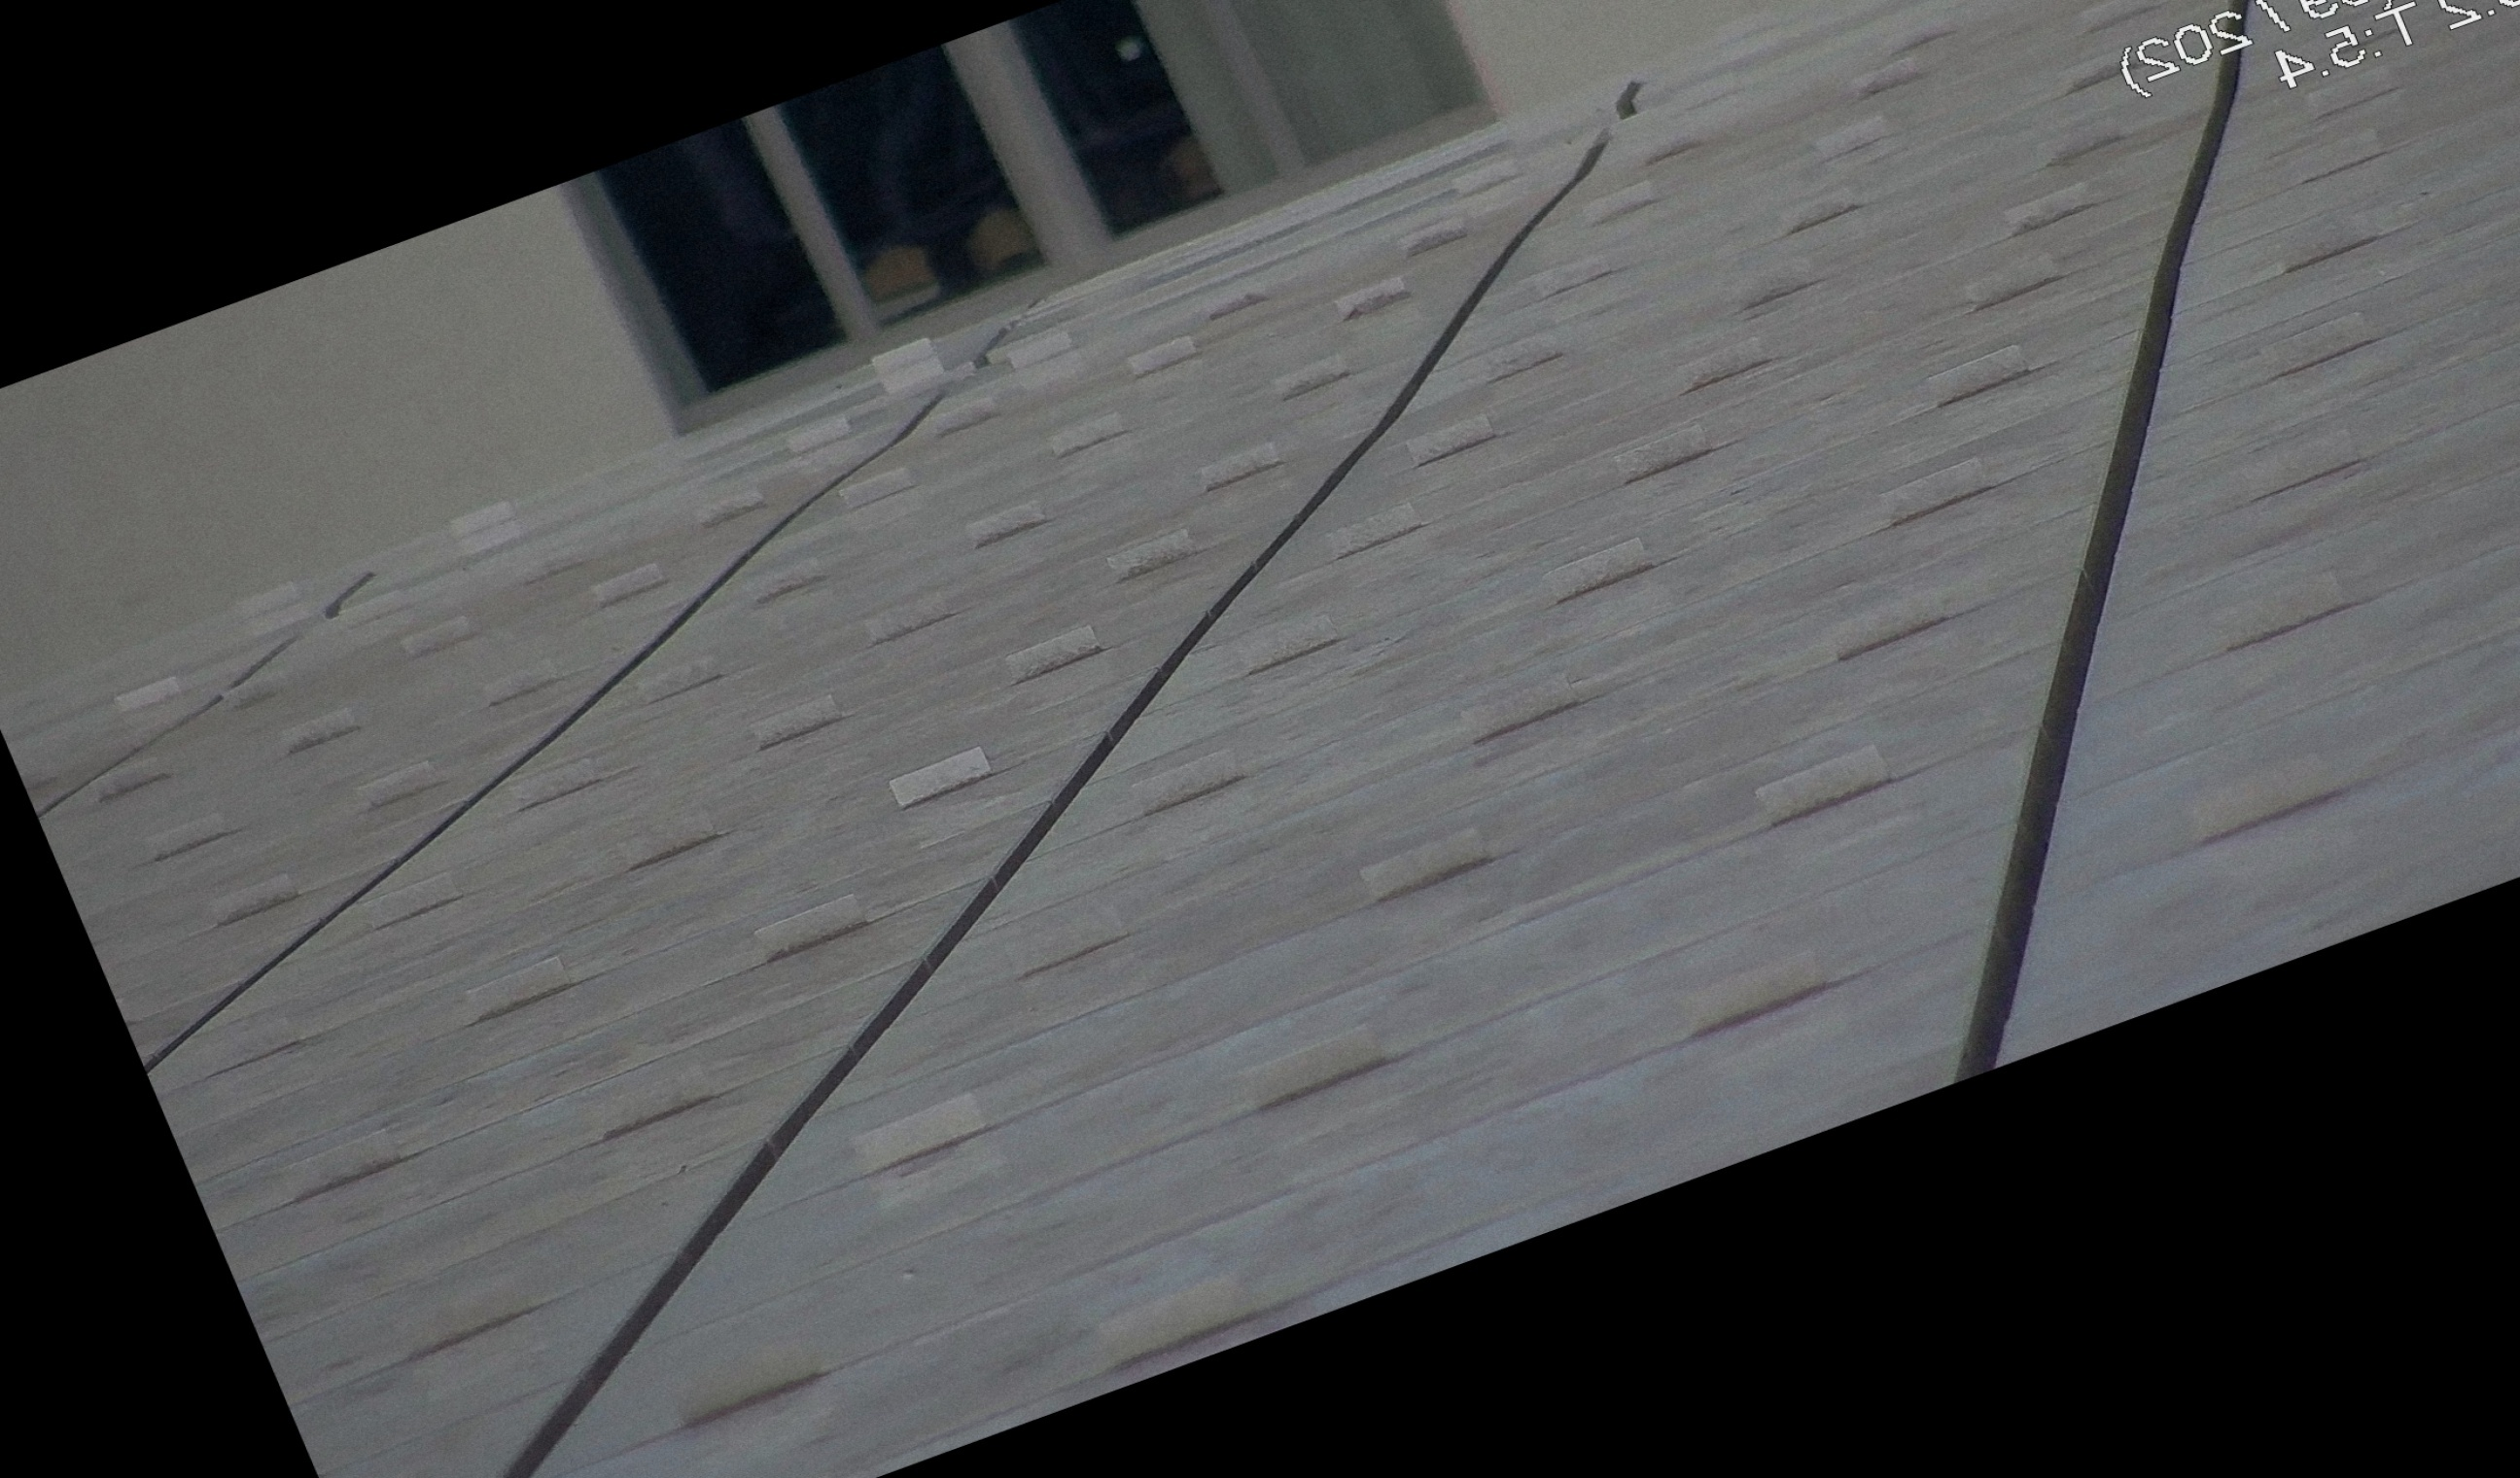Other: (2175, 0, 2385, 39)
